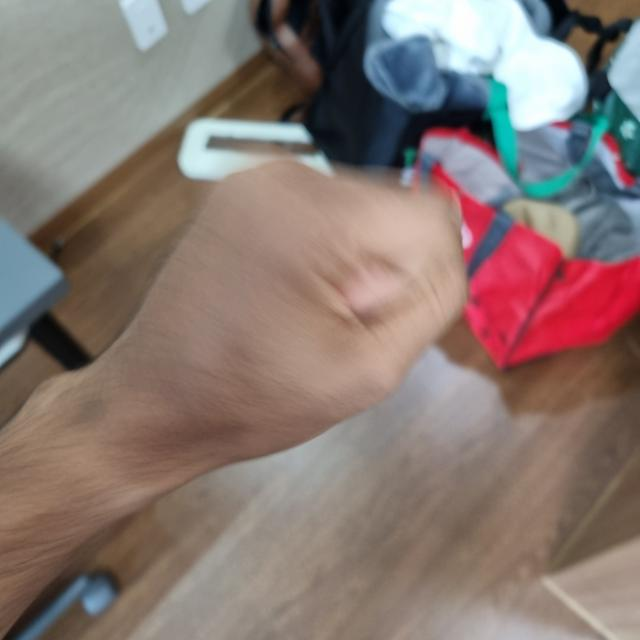Rock: (102, 161, 469, 465)
